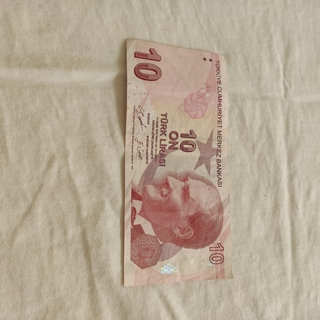10TLFront: (122, 37, 234, 288)
